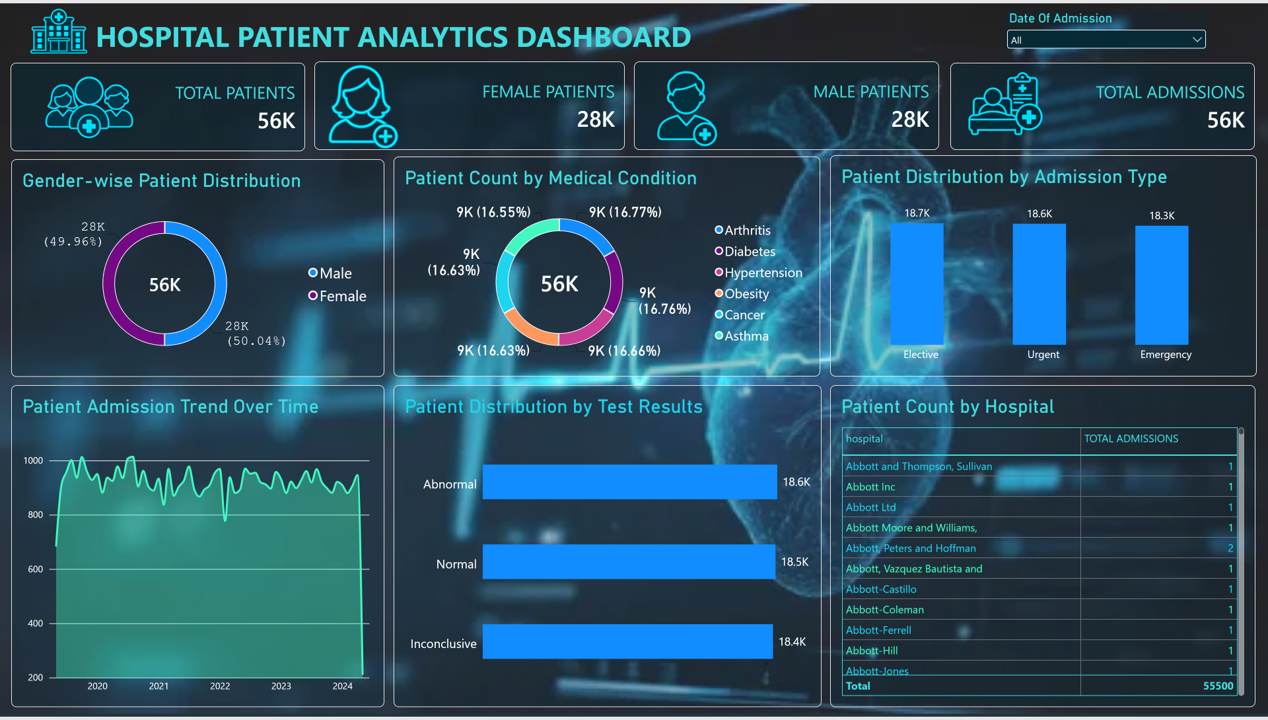

What the dashboard file says about the page in this screenshot:
{"tool":"powerbi","page":{"name":"           HOSPITAL PATIENT ANALYTICS DASHBOARD","canvas":[1920,1080],"ordinal":0},"visuals":[{"type":"cardVisual","fields":{"Data":["healthcare.TOTAL PATIENTS"]},"box":[16,90,446,134],"z":0},{"type":"donutChart","title":"Gender-wise Patient Distribution","fields":{"Category":["healthcare.gender"],"Y":["healthcare.TOTAL ADMISSIONS"]},"box":[16.6,235.6,565,329.4],"z":1000},{"type":"donutChart","title":"Patient Count by Medical Condition","fields":{"Category":["healthcare.medical_condition"],"Y":["healthcare.TOTAL ADMISSIONS"]},"box":[596.3,231.9,646,333.1],"z":2000},{"type":"clusteredColumnChart","title":"Patient Distribution by Admission Type","fields":{"Category":["healthcare.admission_type"],"Y":["healthcare.TOTAL ADMISSIONS"]},"box":[1257.1,230.1,646,335],"z":3000},{"type":"lineChart","title":"Patient Admission Trend Over Time","fields":{"Category":["healthcare.Month Start.Variation.Date Hierarchy.Year","healthcare.Month Start.Variation.Date Hierarchy.Month"],"Y":["healthcare.TOTAL ADMISSIONS"]},"box":[16.6,577.9,565,487.7],"z":4000},{"type":"tableEx","title":"Patient Count by Hospital","fields":{"Values":["healthcare.hospital","healthcare.TOTAL ADMISSIONS"]},"box":[1257.1,577.9,644.2,487.7],"z":5000},{"type":"clusteredBarChart","title":"Patient Distribution by Test Results","fields":{"Category":["healthcare.test_results"],"Y":["healthcare.TOTAL ADMISSIONS"]},"box":[596.3,577.9,647.9,487.7],"z":6000},{"type":"slicer","fields":{"Values":["healthcare.date_of_admission"]},"box":[1520.3,11,311,69.9],"z":10000},{"type":"cardVisual","fields":{"Data":["healthcare.MALE PATIENTS"]},"box":[960,88,462,134],"z":11000},{"type":"cardVisual","fields":{"Data":["healthcare.FEMALE PATIENTS"]},"box":[476,88,470,134],"z":12000},{"type":"cardVisual","fields":{"Data":["healthcare.TOTAL ADMISSIONS"]},"box":[1439.3,90.2,462,132.5],"z":13000},{"type":"textbox","box":[16,20,1130,60],"z":14000},{"type":"image","box":[0,2,178,80],"z":15000},{"type":"image","box":[1440,58,162,184],"z":16000},{"type":"image","box":[54,40,162,230],"z":18000},{"type":"image","box":[960.7,88.3,162,134.4],"z":19000},{"type":"image","box":[476.7,88.3,145.4,136.2],"z":19001}]}

Visuals, with their boxes in screenshot pixels (x1, y1, x2, y2), scaled from the page's 1920x1080 canvas onto the 1268x720 screenshot:
cardVisual - healthcare.TOTAL PATIENTS: l=11, t=60, r=305, b=149
"Gender-wise Patient Distribution" donutChart: l=11, t=157, r=384, b=377
"Patient Count by Medical Condition" donutChart: l=394, t=155, r=820, b=377
"Patient Distribution by Admission Type" clusteredColumnChart: l=830, t=153, r=1257, b=377
"Patient Admission Trend Over Time" lineChart: l=11, t=385, r=384, b=710
"Patient Count by Hospital" tableEx: l=830, t=385, r=1256, b=710
"Patient Distribution by Test Results" clusteredBarChart: l=394, t=385, r=822, b=710
slicer - healthcare.date_of_admission: l=1004, t=7, r=1209, b=54
cardVisual - healthcare.MALE PATIENTS: l=634, t=59, r=939, b=148
cardVisual - healthcare.FEMALE PATIENTS: l=314, t=59, r=625, b=148
cardVisual - healthcare.TOTAL ADMISSIONS: l=951, t=60, r=1256, b=148
textbox: l=11, t=13, r=757, b=53
image: l=0, t=1, r=118, b=55
image: l=951, t=39, r=1058, b=161
image: l=36, t=27, r=143, b=180
image: l=634, t=59, r=741, b=148
image: l=315, t=59, r=411, b=150
